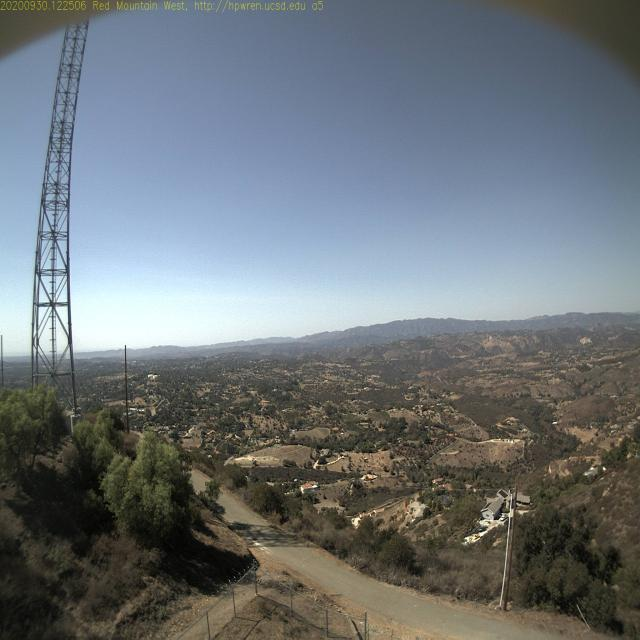smoke: (64, 315, 74, 361)
